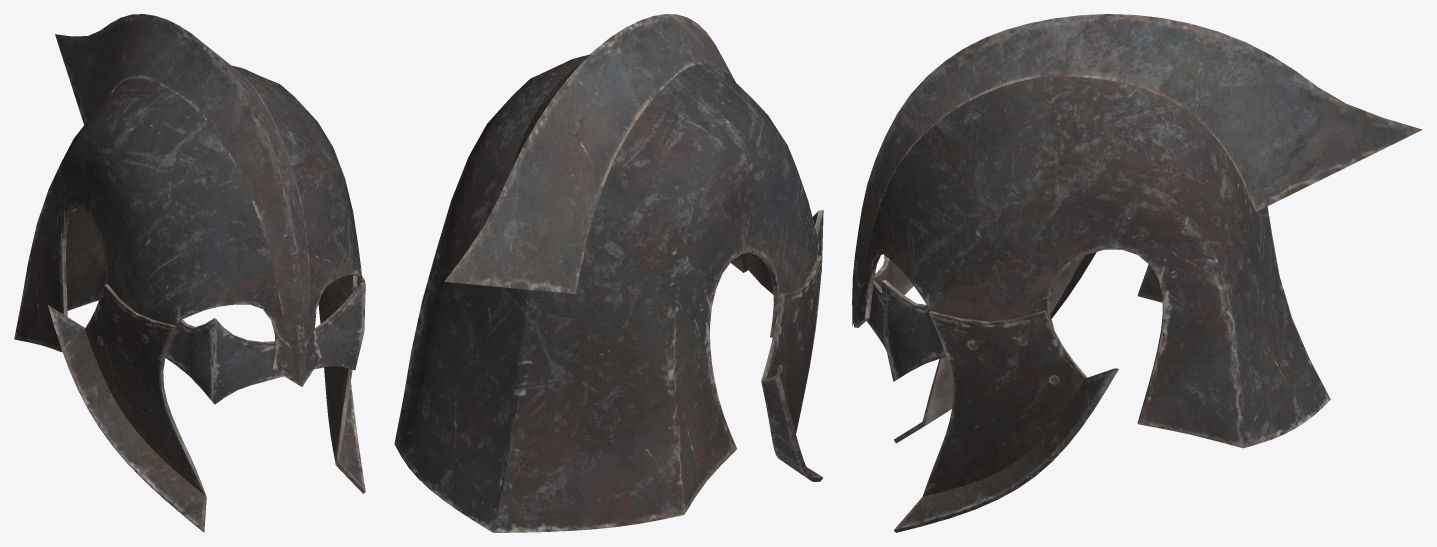
File: sk_dg_uruk_helmet_elite_g.fbx
The picture shows the model from 3 angles, left to right: view 1: azimuth 30°, elevation 25°; view 2: azimuth 150°, elevation 25°; view 3: azimuth 270°, elevation 25°; orthographic projection. The views are drawn at different scales.
Parts seen in each view (by area): view 1: sk_dg_uruk_helmet_elite_g; view 2: sk_dg_uruk_helmet_elite_g; view 3: sk_dg_uruk_helmet_elite_g.
Boxes of the visible parts, x1,y1,x2,y2 form: sk_dg_uruk_helmet_elite_g: [14, 14, 365, 532]; sk_dg_uruk_helmet_elite_g: [394, 14, 823, 532]; sk_dg_uruk_helmet_elite_g: [852, 14, 1422, 532].
Bounding box in the file's own units: 0.2401 × 0.3666 × 0.3362.
Materials: 1 (1 with a texture image).
